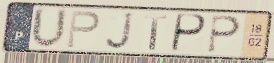J: (104, 11, 135, 52)
P: (169, 12, 208, 54), (205, 14, 243, 55), (65, 9, 102, 50)
T: (143, 13, 169, 51)
U: (30, 6, 70, 51)
